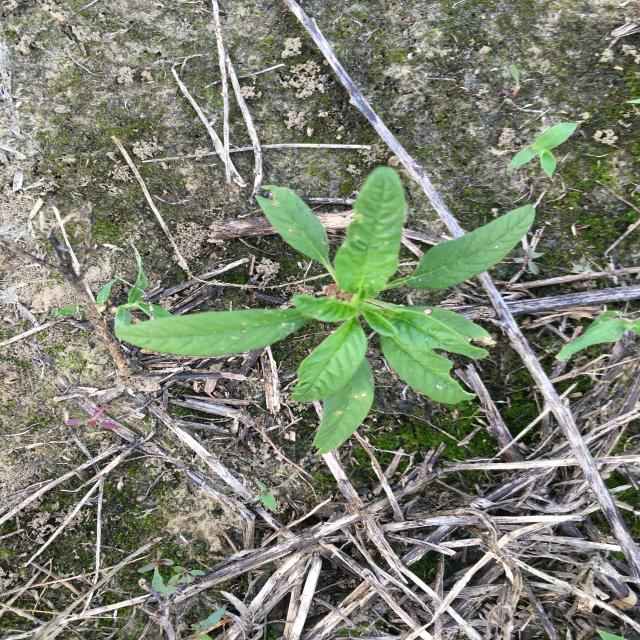Waterhemp: (112, 164, 538, 458)
